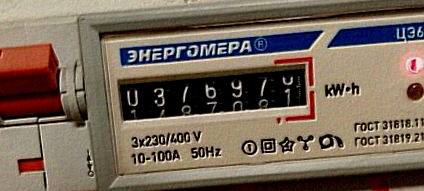0: (123, 85, 140, 108)
1: (281, 86, 294, 107)
3: (152, 86, 168, 108)
6: (202, 76, 219, 100)
7: (176, 80, 194, 105), (254, 73, 271, 98)
9: (228, 75, 244, 99)
screen: (107, 45, 323, 143)
